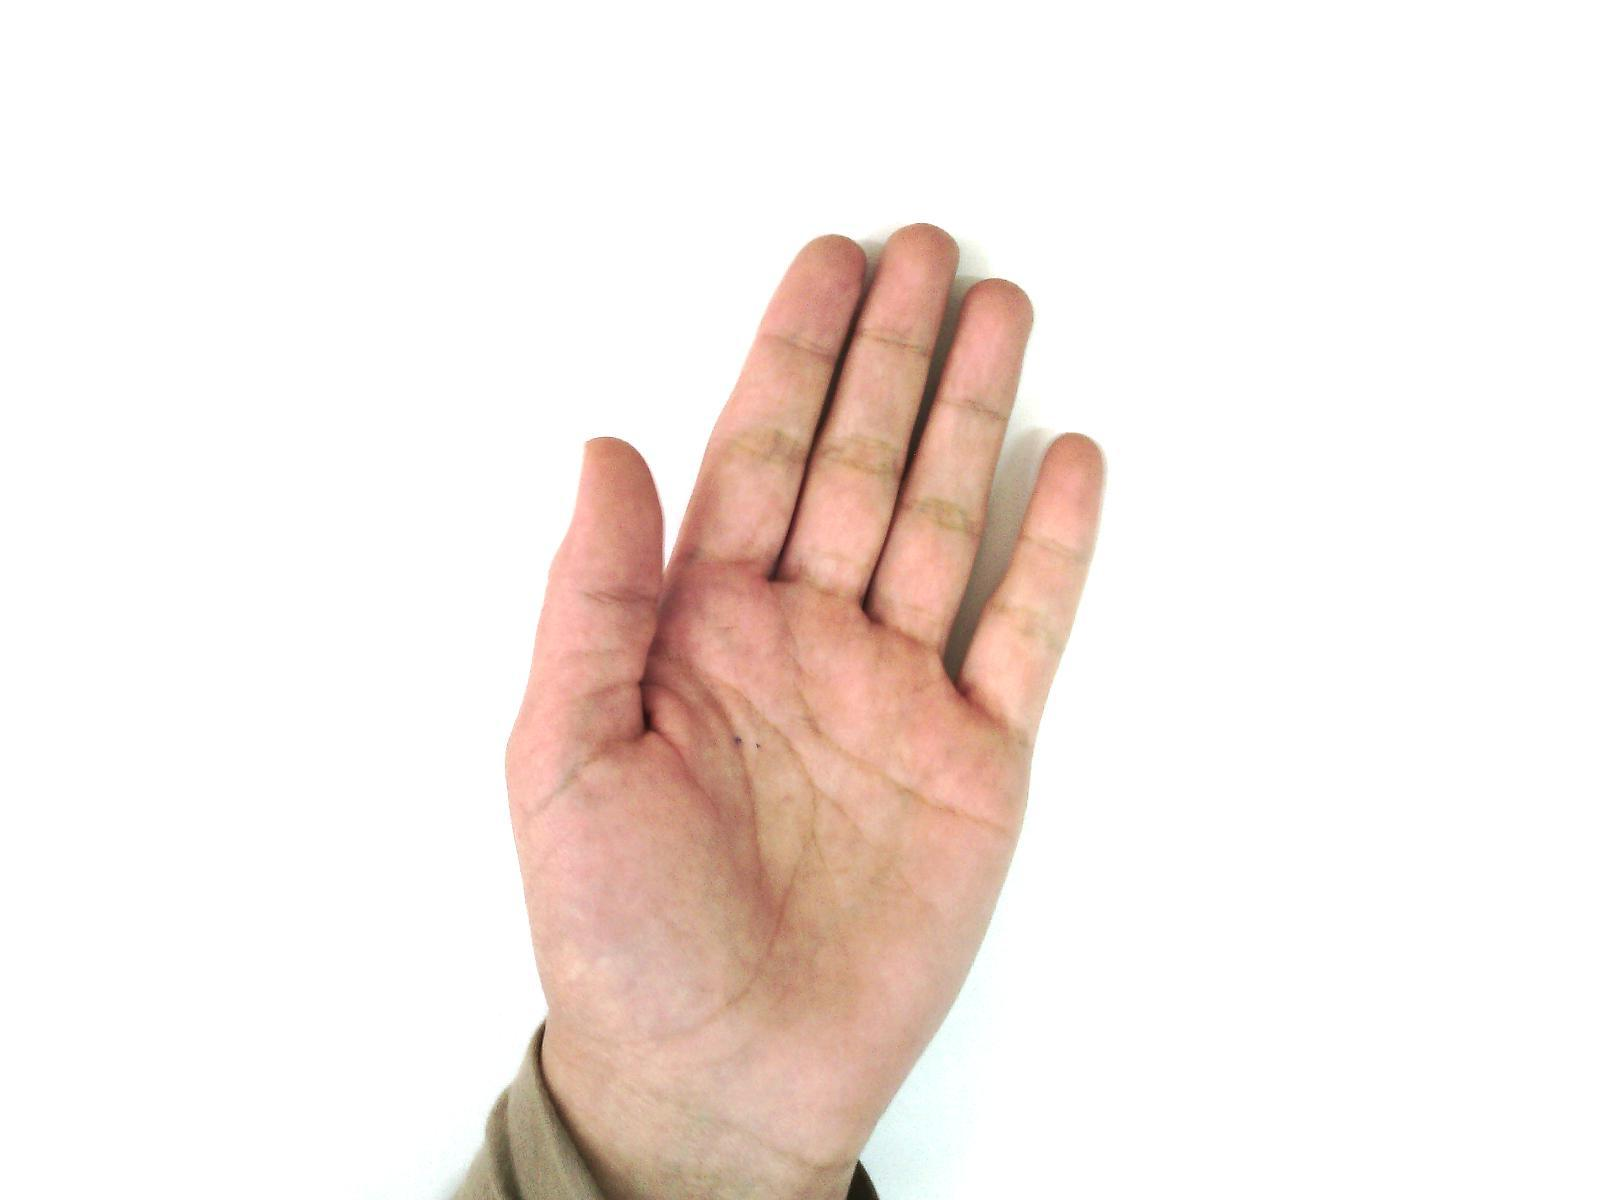hand: (500, 228, 1121, 1082)
